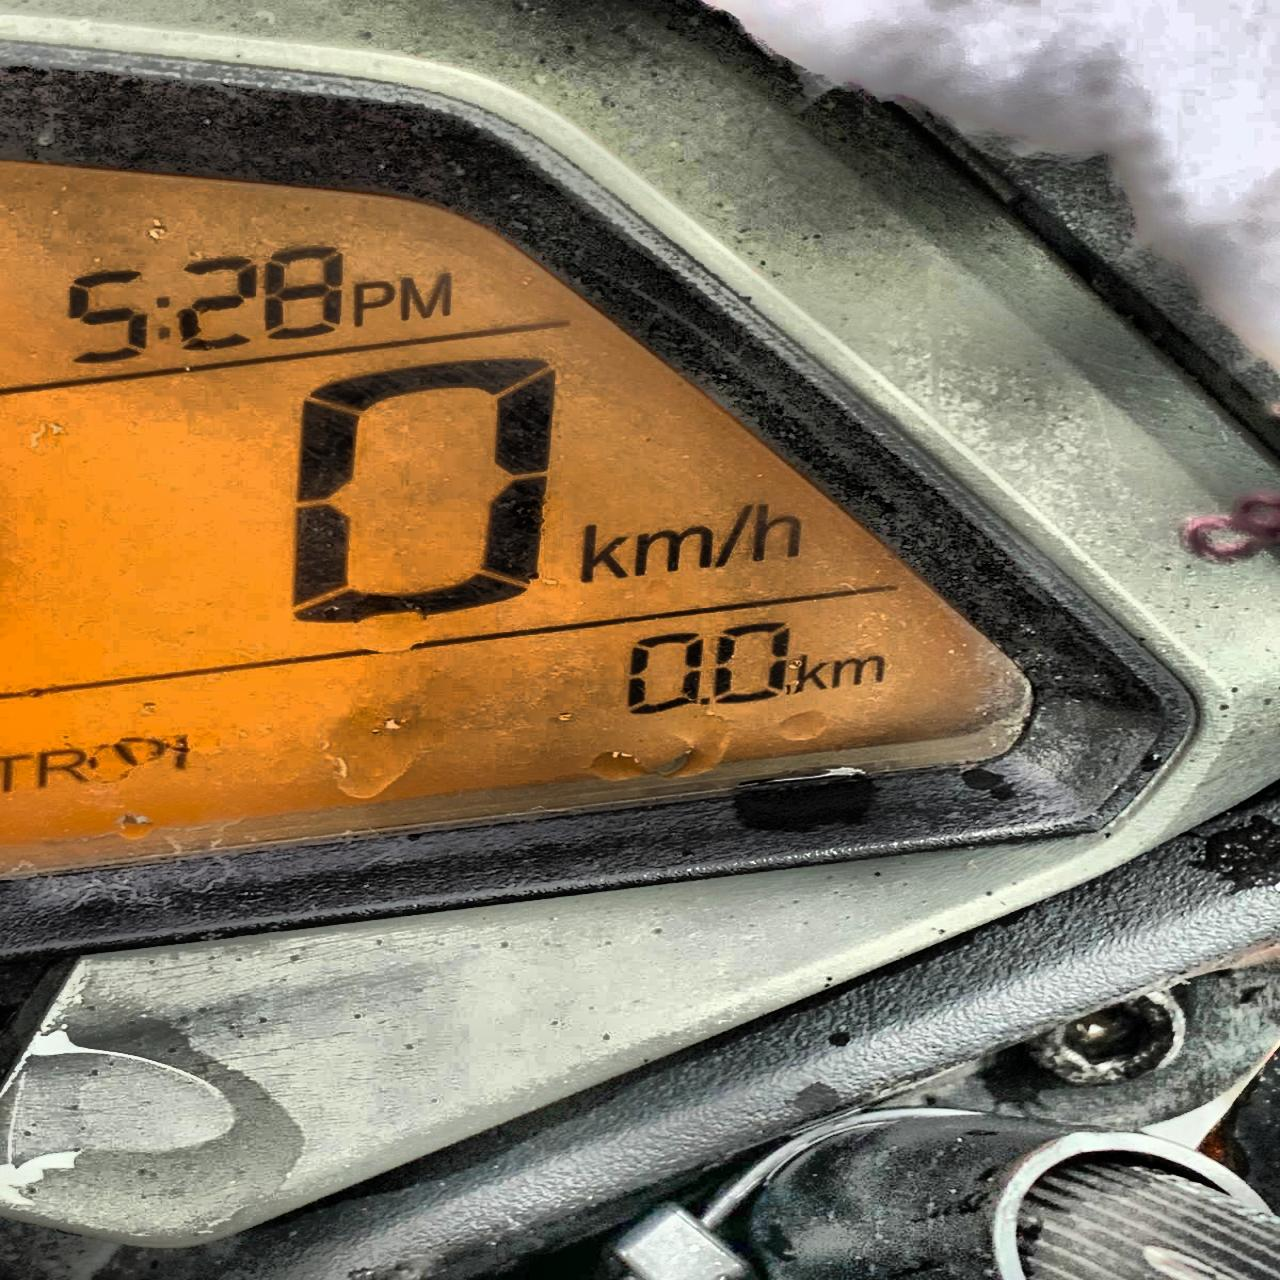-: (695, 690, 710, 710)
0: (286, 355, 559, 624), (621, 629, 697, 717), (714, 618, 787, 703)
2: (177, 257, 256, 350)
5: (66, 270, 149, 365)
8: (261, 245, 345, 340)
X: (633, 523, 713, 577), (576, 517, 628, 583), (753, 499, 802, 561), (397, 271, 454, 322), (712, 502, 750, 568), (826, 652, 887, 689), (35, 749, 88, 789), (353, 279, 395, 327), (792, 652, 825, 694), (0, 754, 30, 794), (151, 294, 173, 345)
odometer: (0, 127, 1064, 898)
